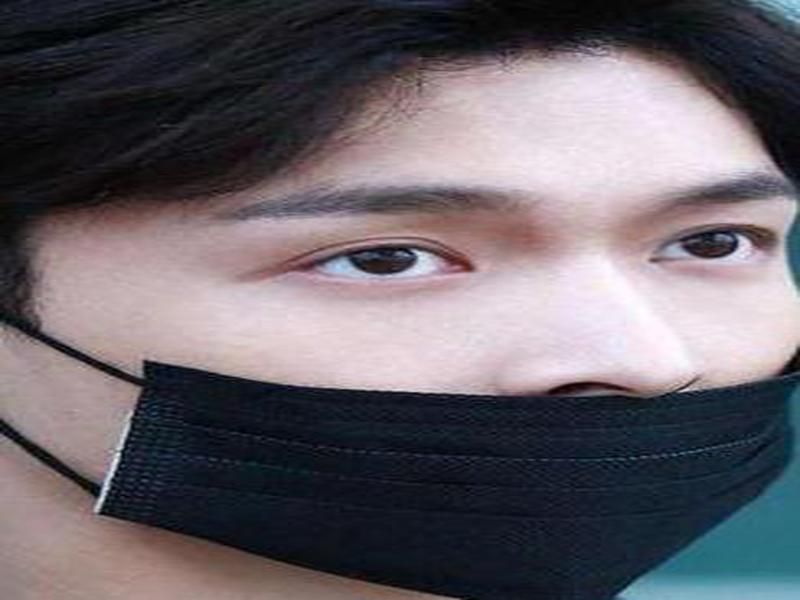with_mask: (1, 45, 799, 600)
